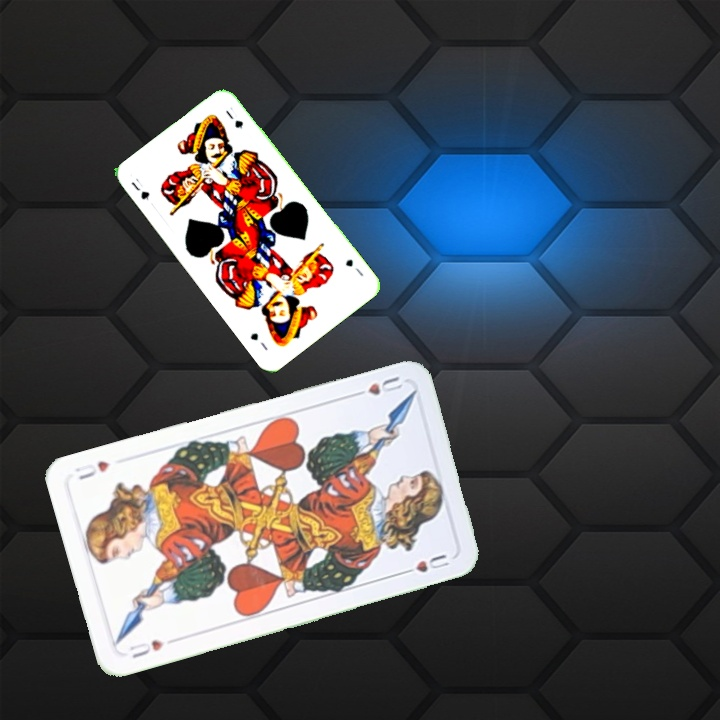GU: (127, 174, 152, 203), (341, 255, 366, 279)
HU: (348, 372, 405, 400), (125, 636, 167, 661)
